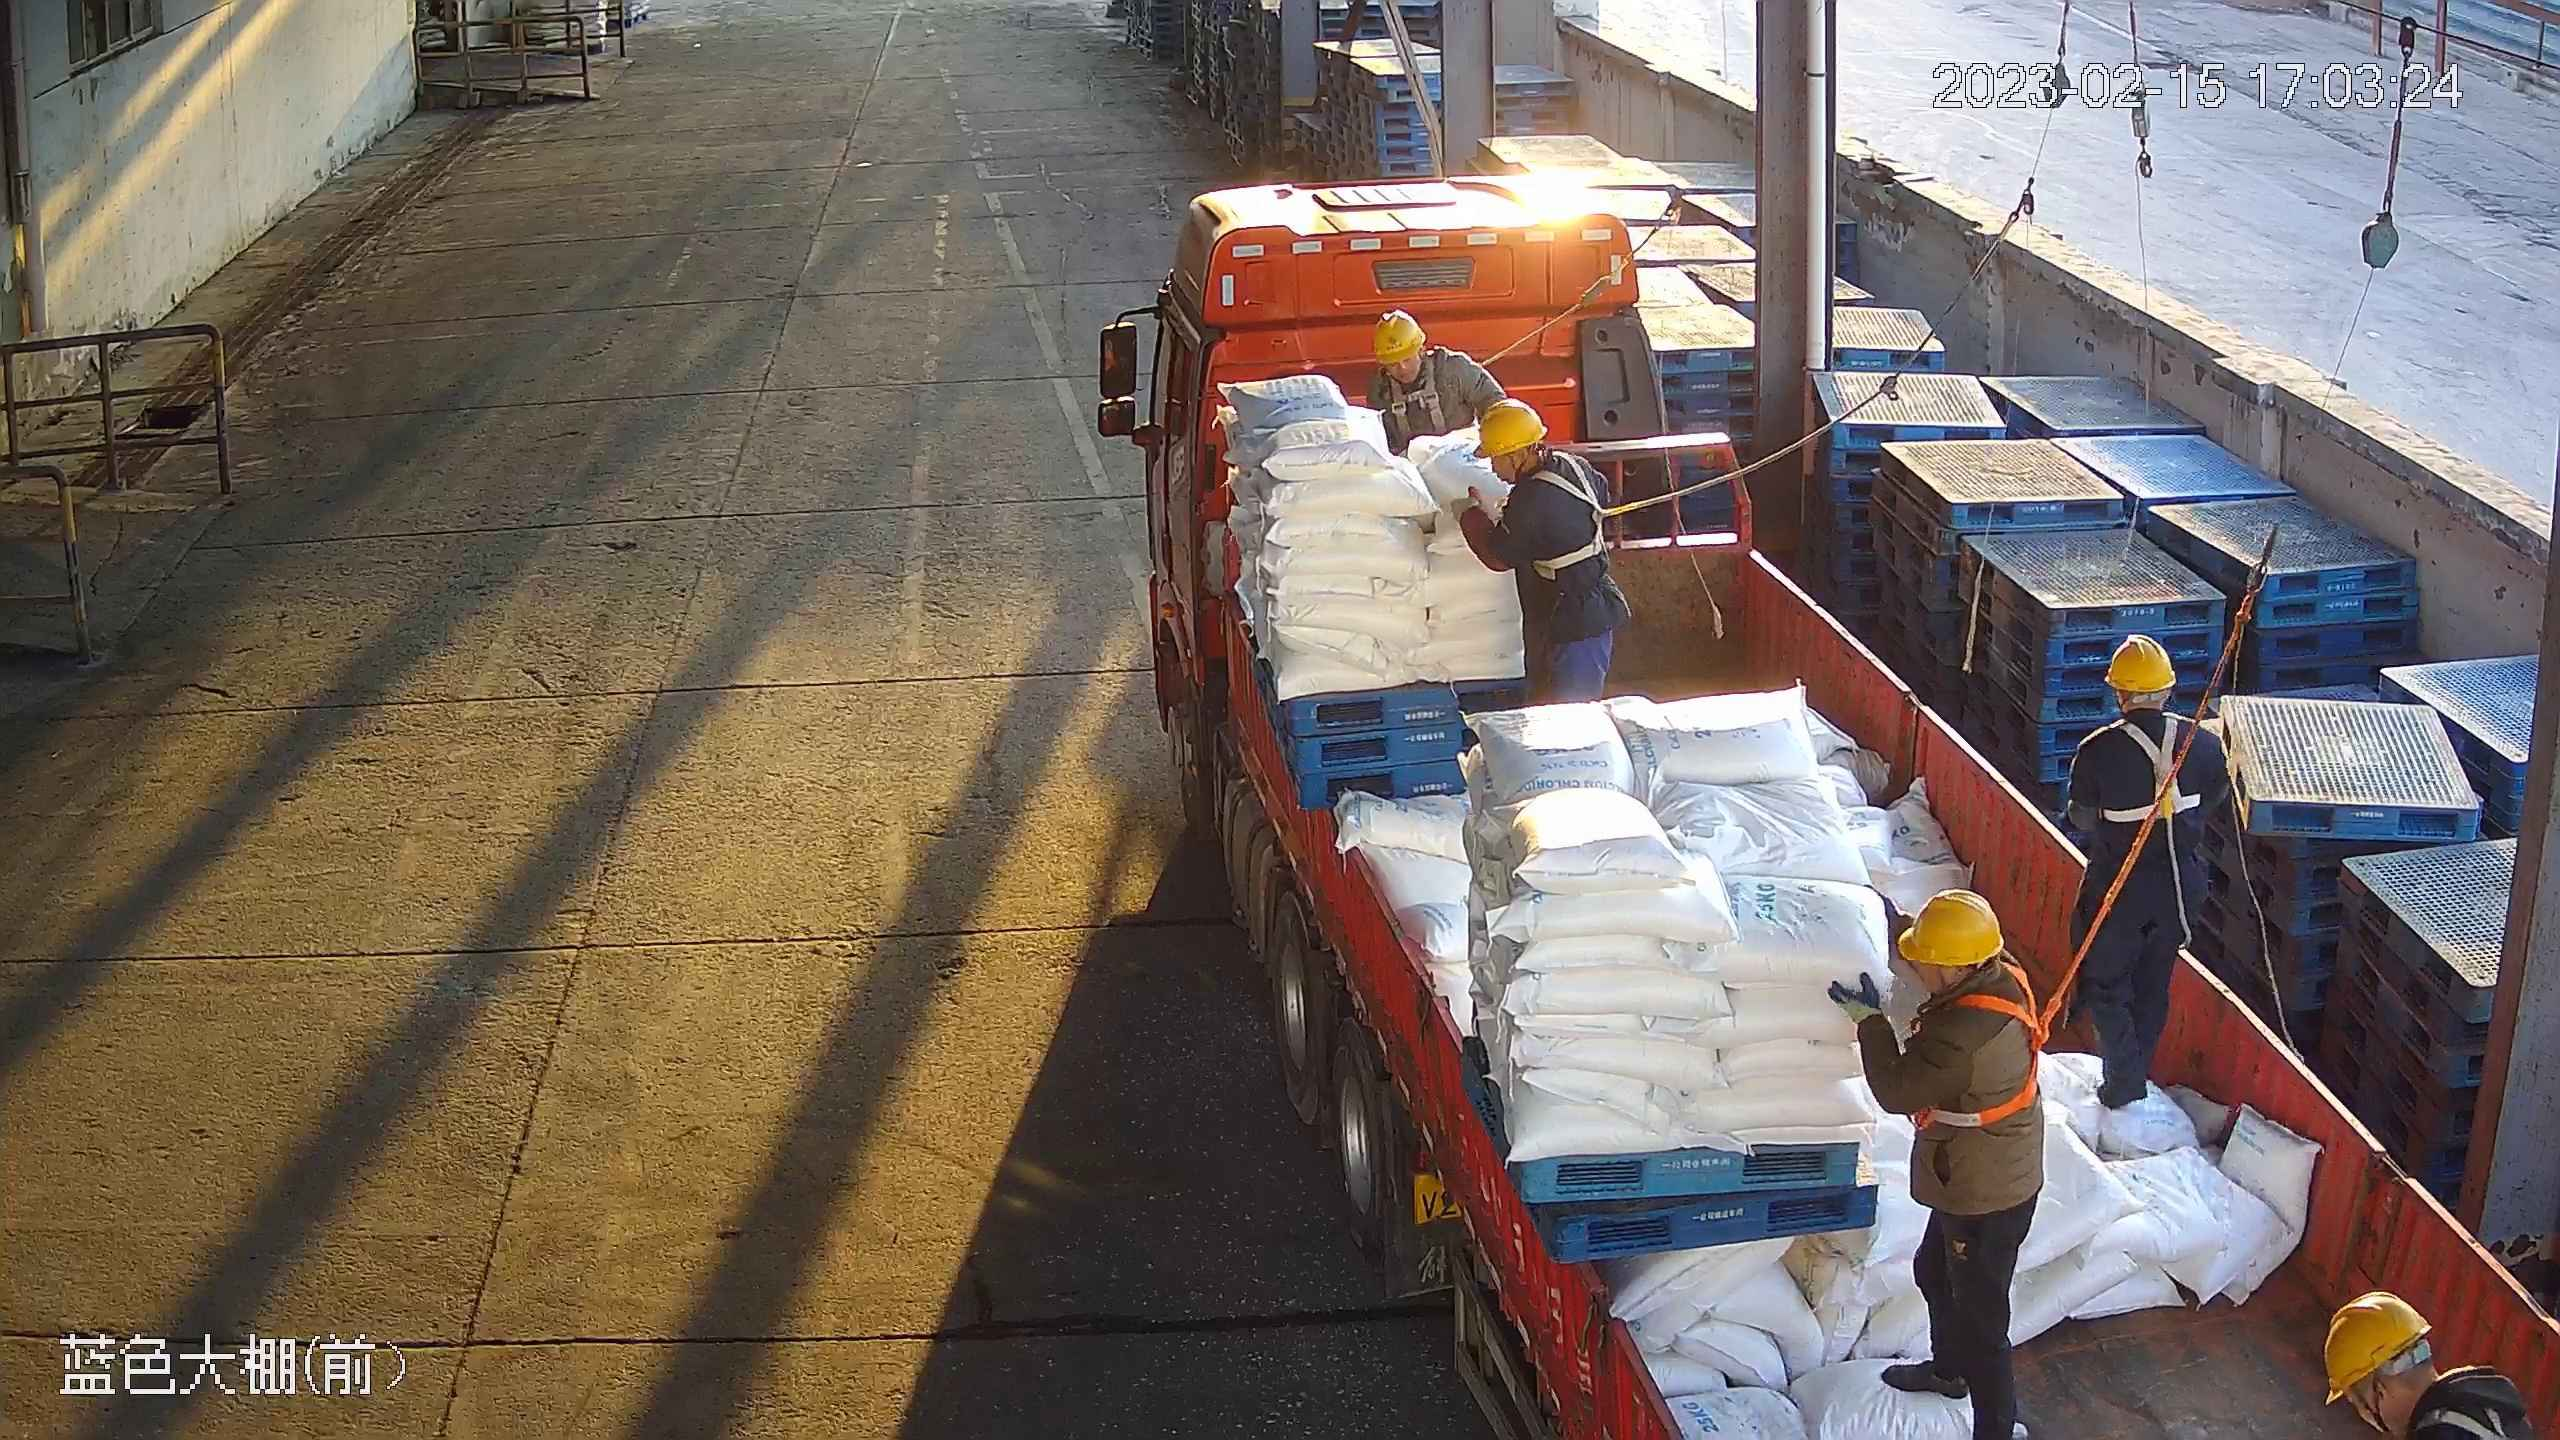belt: (1912, 962, 2049, 1127), (2098, 714, 2212, 842), (1522, 449, 1636, 573), (2420, 1379, 2516, 1440), (1385, 366, 1446, 442)
head: (1859, 888, 2053, 1068), (2061, 636, 2242, 801), (1468, 403, 1612, 532), (1368, 310, 1485, 401)
helmet: (2310, 1279, 2440, 1403), (1894, 882, 2012, 966), (2109, 625, 2177, 695), (1473, 392, 1548, 453), (1372, 297, 1435, 368)
people: (1851, 875, 2073, 1438), (2062, 627, 2238, 1121), (1462, 397, 1636, 714)
truck: (1094, 179, 2560, 1440)
